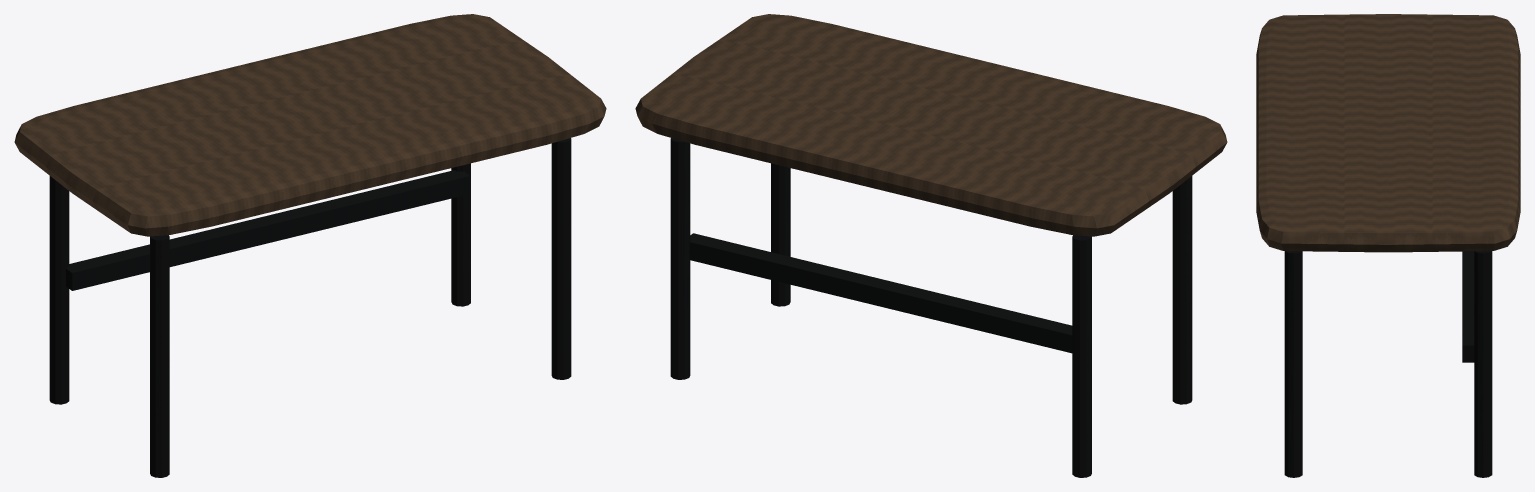
The model's file is office-desk-1400_lod2.glb.
The picture shows the model from 3 angles, left to right: view 1: azimuth 30°, elevation 25°; view 2: azimuth 150°, elevation 25°; view 3: azimuth 270°, elevation 25°; orthographic projection. The views are drawn at different scales.
Visible parts, largest first — view 1: top, crossbeam, leg_4, leg_3, leg_1, leg_2; view 2: top, crossbeam, leg_2, leg_1, leg_3, leg_4; view 3: top, leg_4, leg_2, crossbeam.
Boxes of the visible parts, left/top/right/bottom form: top: left=14, top=14, right=606, bottom=236; crossbeam: left=66, top=170, right=470, bottom=290; leg_4: left=551, top=138, right=571, bottom=379; leg_3: left=150, top=235, right=169, bottom=477; leg_1: left=49, top=176, right=69, bottom=404; leg_2: left=451, top=163, right=470, bottom=306; top: left=635, top=14, right=1227, bottom=236; crossbeam: left=689, top=233, right=1072, bottom=353; leg_2: left=670, top=138, right=690, bottom=379; leg_1: left=1072, top=235, right=1091, bottom=477; leg_3: left=1172, top=176, right=1192, bottom=404; leg_4: left=771, top=163, right=790, bottom=306; top: left=1256, top=14, right=1520, bottom=252; leg_4: left=1284, top=251, right=1302, bottom=477; leg_2: left=1474, top=251, right=1492, bottom=477; crossbeam: left=1462, top=251, right=1474, bottom=362.
Bounding box in the file's own units: 1.4 × 0.76 × 0.7.
2 materials, 2 textured.
